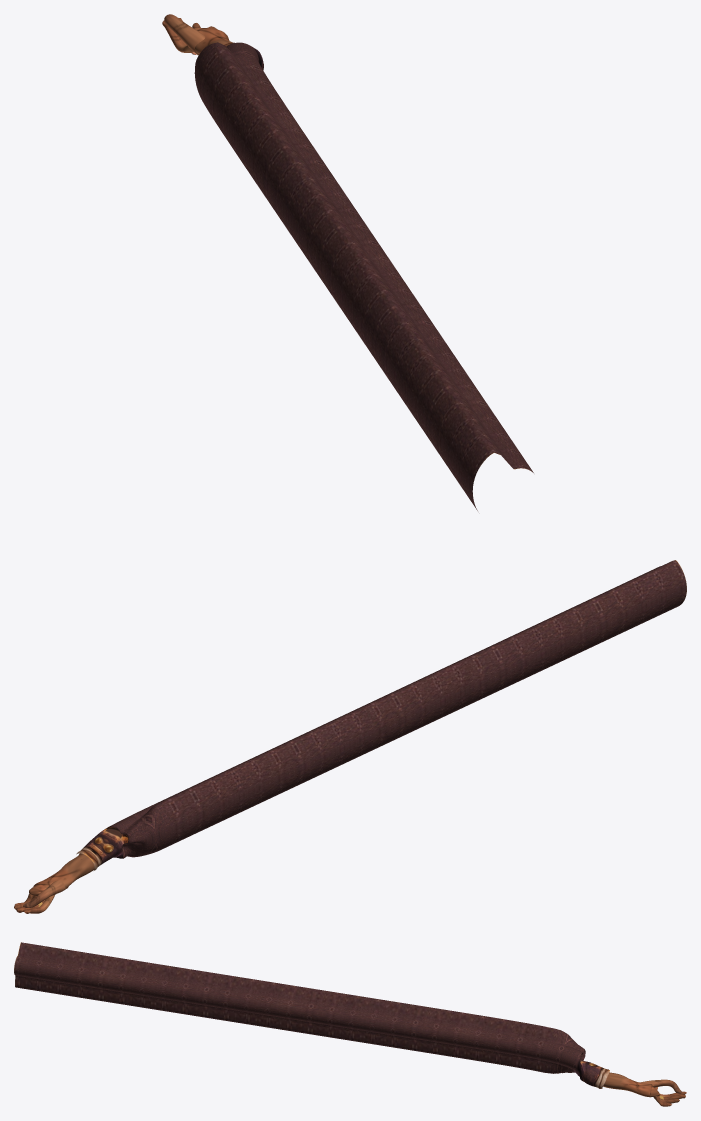
The model's file is mage-grip-v5.glb.
3 renders of one model, top to bottom at view 1: azimuth 30°, elevation 25°; view 2: azimuth 150°, elevation 25°; view 3: azimuth 270°, elevation 25°, orthographic. The views are drawn at different scales.
Visible parts, largest first — view 1: mage-card-grip; view 2: mage-card-grip; view 3: mage-card-grip.
Part boxes in pixels (box(x1,y1,x2,y2)): mage-card-grip: box(162, 14, 533, 510); mage-card-grip: box(14, 560, 686, 913); mage-card-grip: box(14, 942, 686, 1106).
Bounding box in the file's own units: 0.9068 × 0.3435 × 2.72.
4 materials, 3 textured.
